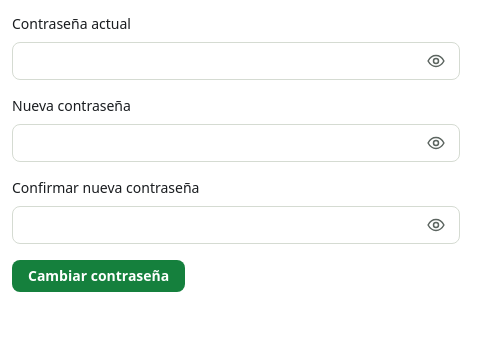
Scenario: ProfilePasswordForm › validates the new password with the shared rules
Type "actual123" into the password field labelled "Contraseña actual" at [236, 61], box [12, 42, 460, 80]
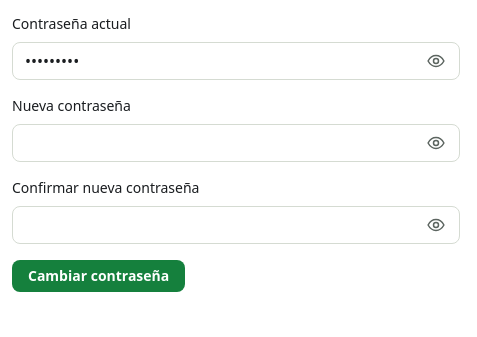
Type "corta" into the password field labelled "Nueva contraseña" at [236, 143], box [12, 124, 460, 162]
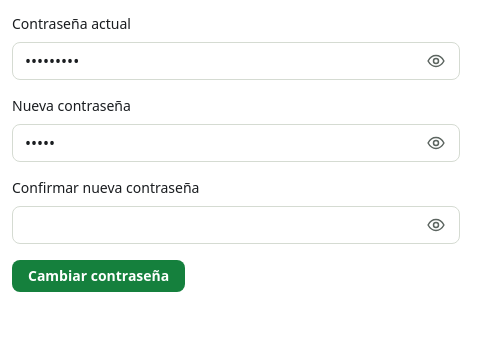
Type "corta" into the password field labelled "Confirmar nueva contraseña" at [236, 225], box [12, 206, 460, 244]
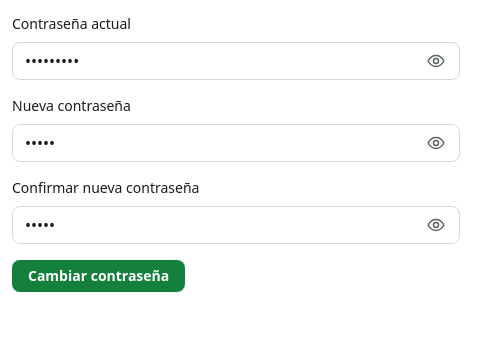
Submit the form
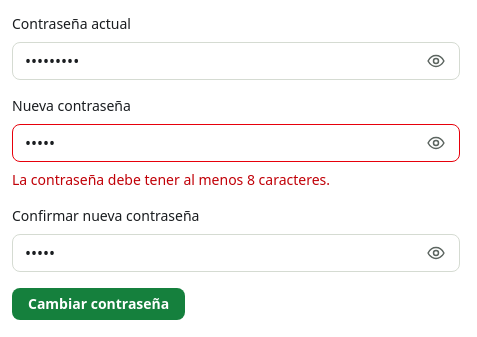
Now the form shows "La contraseña debe tener al menos 8 caracteres.", box [12, 170, 330, 189]
